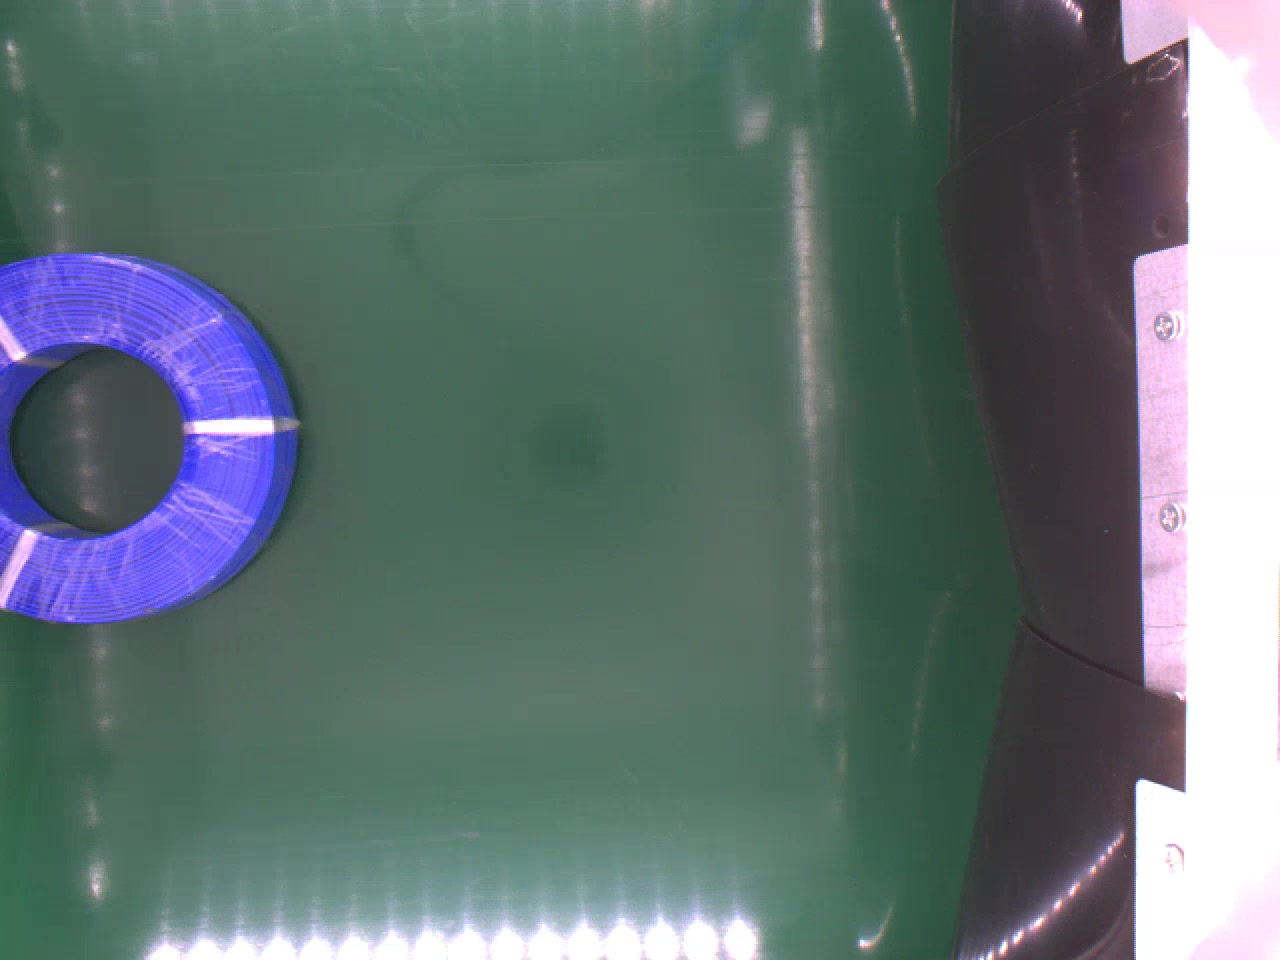blue: (0, 247, 299, 624)
